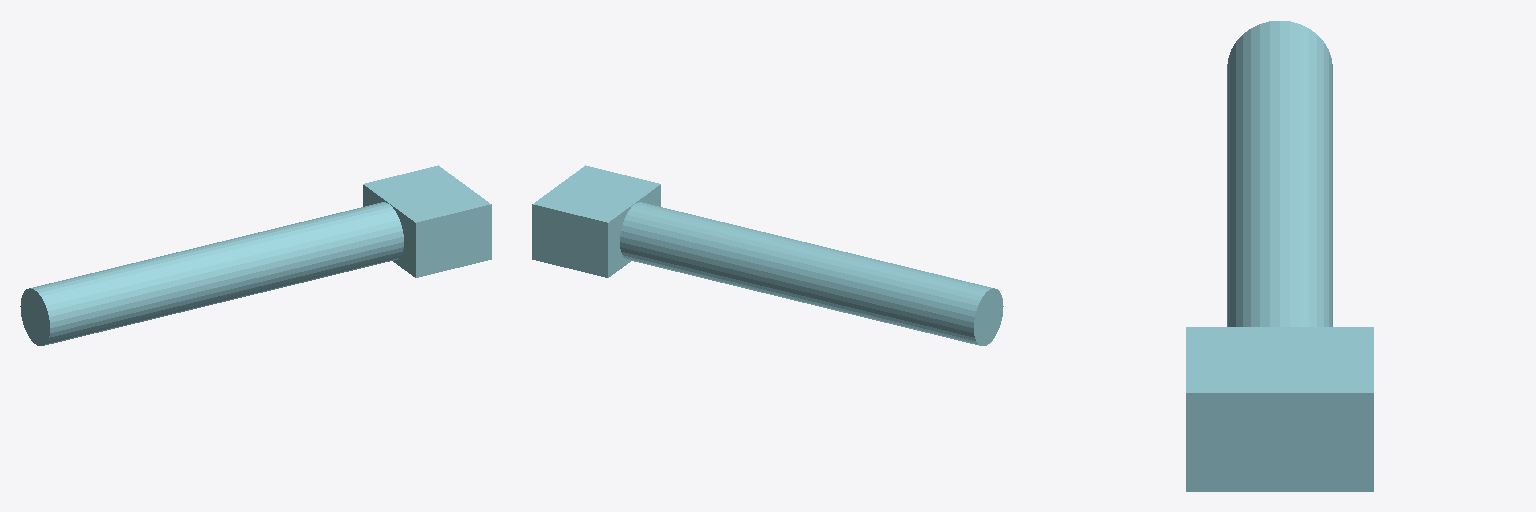
The robot description file, URDF, robot "cylinder_hammer_v1013":
<?xml version="1.0"?>
<robot name="cylinder_hammer_v1013">

  <link name="cylinder_hammer_v1013">
    <!-- Handle -->
    <visual>
      <origin xyz="0 0 0" rpy="0 1.5707963267948966 0"/>
      <geometry>
        <cylinder length="0.27123772080964526" radius="0.01975708339234073"/>
      </geometry>
      <material name="material">
        <color rgba="0.639 0.847 0.882 1.0"/>
      </material>
    </visual>
    <collision>
      <origin xyz="0 0 0" rpy="0 1.5707963267948966 0"/>
      <geometry>
        <cylinder length="0.27123772080964526" radius="0.01975708339234073"/>
      </geometry>
    </collision>

    <!-- Head -->
    <visual>
      <origin xyz="0.16467684830621754 0 0" rpy="0 0 0"/>
      <geometry>
        <box size="0.05811597580278979 0.07036424866980831 0.04060228516926858"/>
      </geometry>
      <material name="material">
        <color rgba="0.639 0.847 0.882 1.0"/>
      </material>
    </visual>
    <collision>
      <origin xyz="0.16467684830621754 0 0" rpy="0 0 0"/>
      <geometry>
        <box size="0.05811597580278979 0.07036424866980831 0.04060228516926858"/>
      </geometry>
    </collision>

    <inertial>
      <density value="400.0"/>
    </inertial>
  </link>

</robot>

--- What the picture shows (computed from the rendered views, not written in the file) ---
The picture shows the robot from 3 angles, left to right: view 1: azimuth 30°, elevation 25°; view 2: azimuth 150°, elevation 25°; view 3: azimuth 270°, elevation 25°; orthographic projection.
Robot: cylinder_hammer_v1013 — 1 links, 0 joints (none); root link cylinder_hammer_v1013; default pose: every joint at zero.
Links seen in each view (by area): view 1: cylinder_hammer_v1013; view 2: cylinder_hammer_v1013; view 3: cylinder_hammer_v1013.
Link boxes in pixels (x1,y1,x2,y2): cylinder_hammer_v1013: (20,165,491,345); cylinder_hammer_v1013: (532,165,1003,345); cylinder_hammer_v1013: (1186,21,1373,491).
Size in the robot's own frame: 0.3294 by 0.0704 by 0.0406 metres.
Geometry: primitives only (box / cylinder / sphere), no mesh files.
